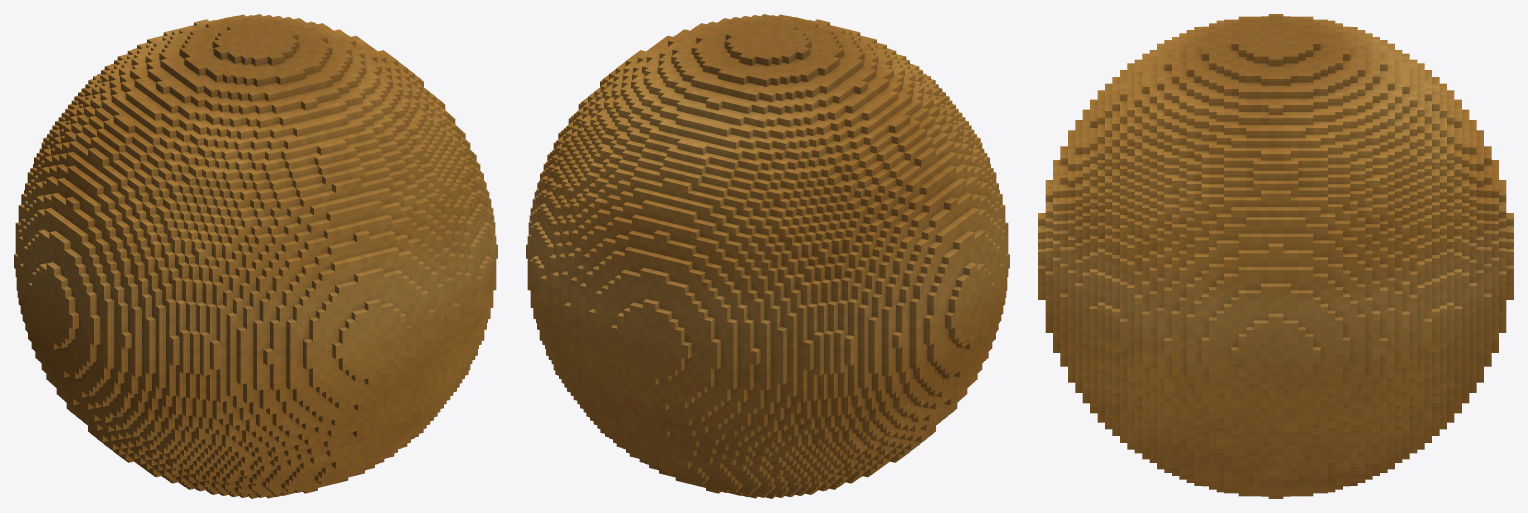
File: titan_lod0.glb
3 views of the same model, side by side, from view 1: azimuth 30°, elevation 25°; view 2: azimuth 150°, elevation 25°; view 3: azimuth 270°, elevation 25° (orthographic).
Visible parts, largest first — view 1: titan_lod0; view 2: titan_lod0; view 3: titan_lod0.
Boxes of the visible parts, left/top/right/bottom form: titan_lod0: left=14, top=14, right=497, bottom=498; titan_lod0: left=526, top=14, right=1009, bottom=498; titan_lod0: left=1038, top=14, right=1513, bottom=498.
Size of the model in its own units: 2 by 2 by 2.
